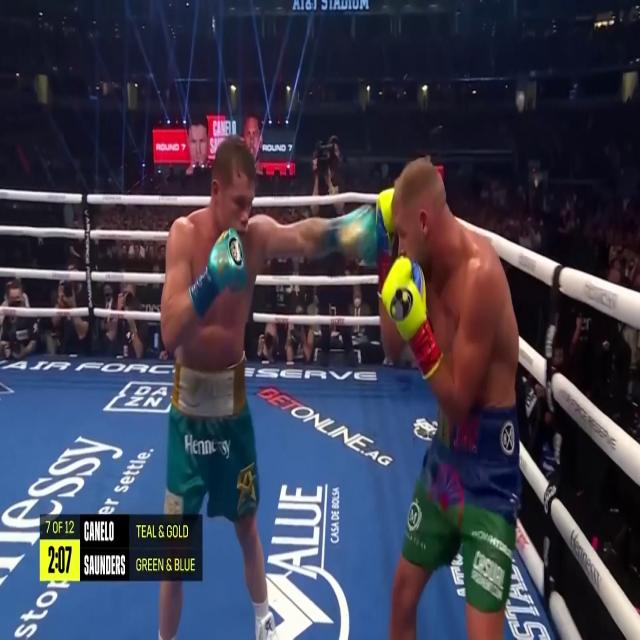boxer_1: (393, 158, 519, 414)
boxer_2: (182, 140, 258, 369)
gloves_1: (376, 188, 441, 376)
gloves_2: (190, 230, 246, 313), (324, 205, 380, 265)
